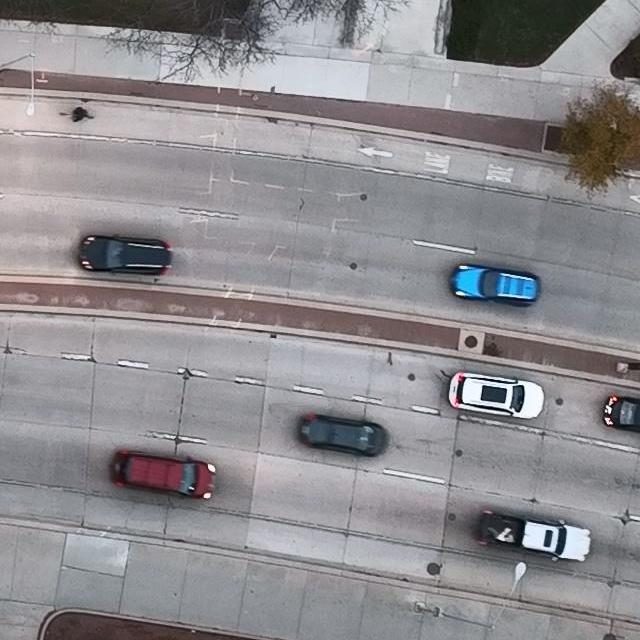car: (474, 510, 592, 562), (108, 449, 217, 498), (447, 371, 546, 419), (448, 261, 541, 306), (295, 412, 387, 457), (76, 234, 171, 277), (602, 395, 640, 434)
